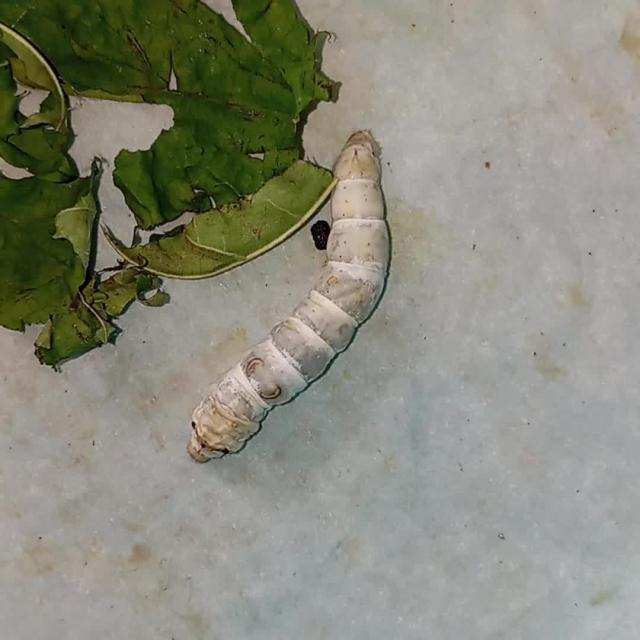Grasserie: (172, 118, 419, 470)
